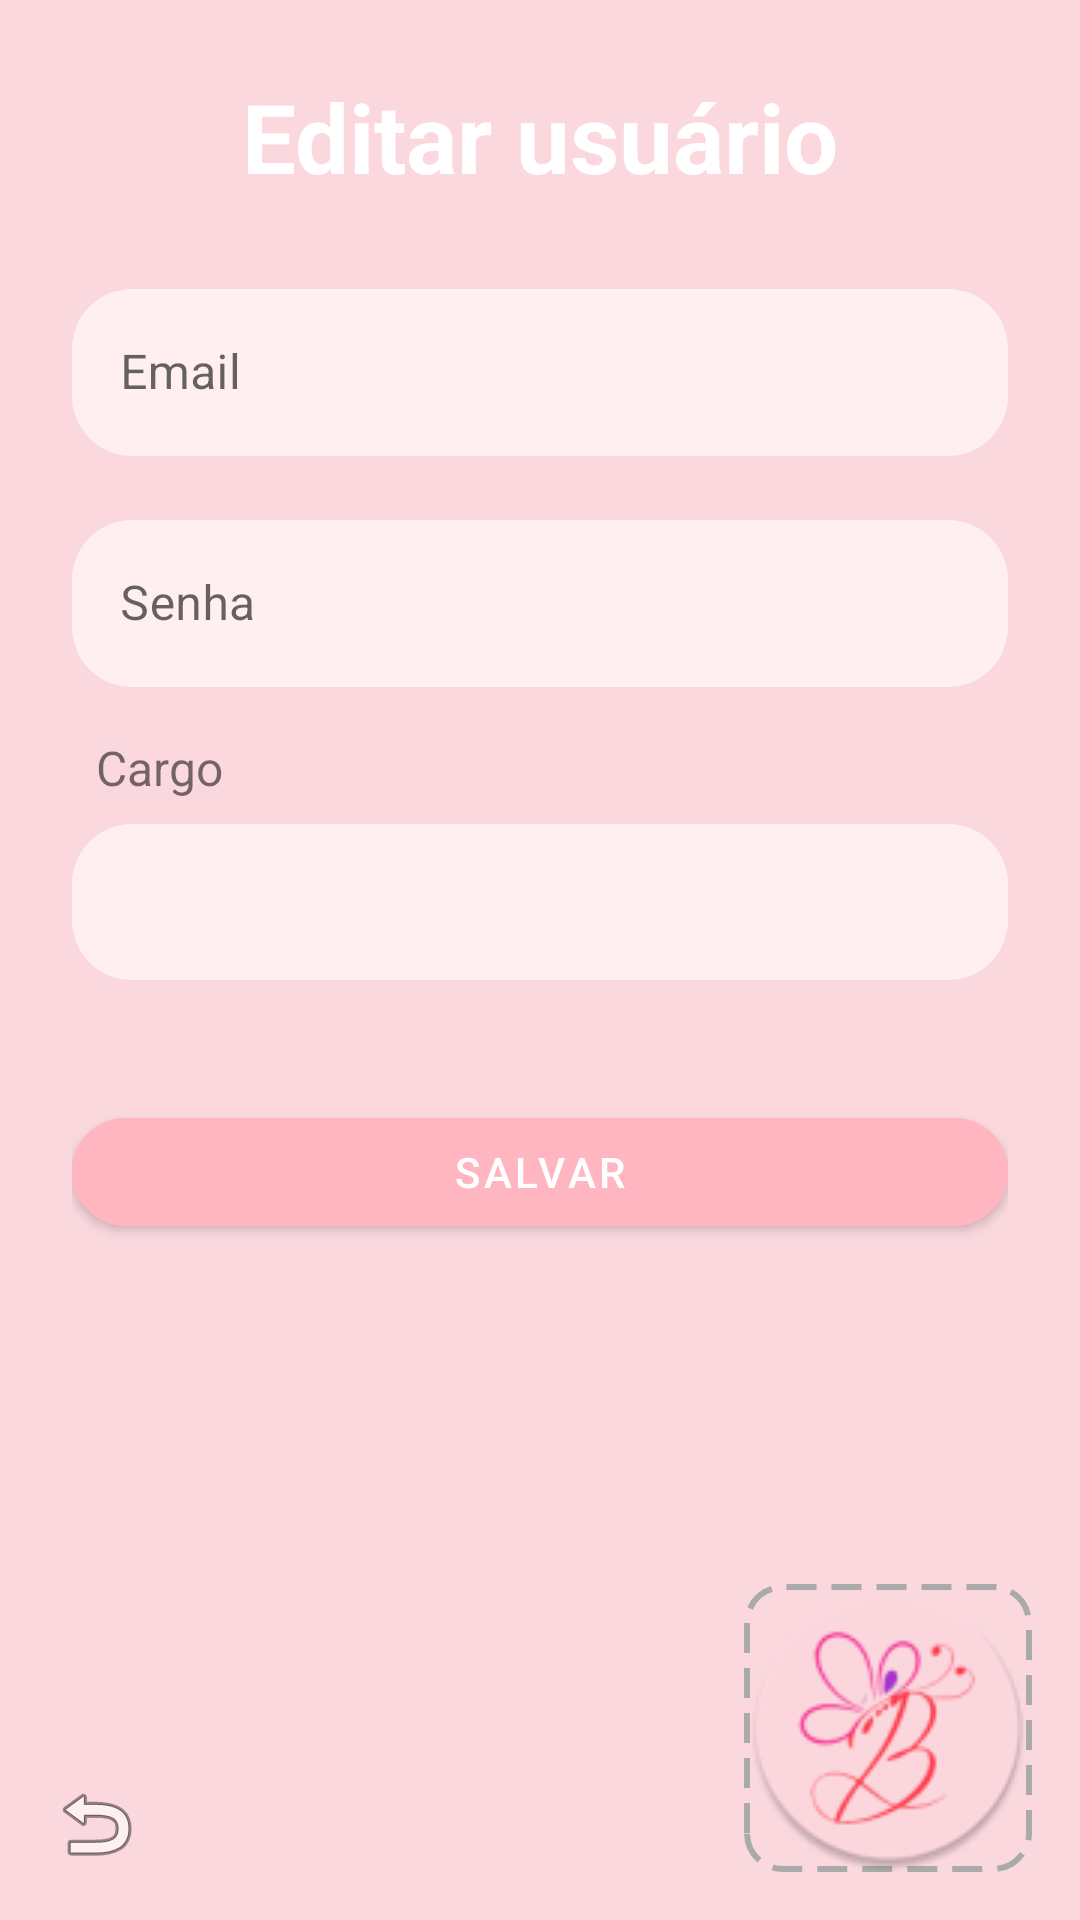

Where to tap for icons on this 1080*1920 app screen, as (x,y):
revert: (97,1824)
